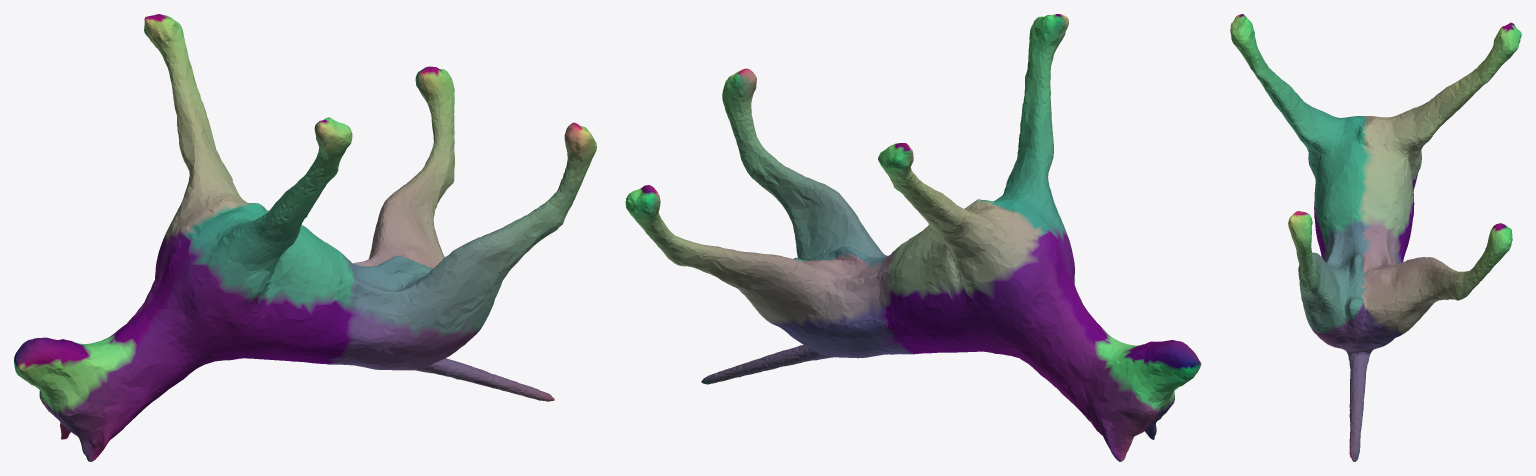
File: dog2-8.off.obj
3 renders of one model, left to right at view 1: azimuth 30°, elevation 25°; view 2: azimuth 150°, elevation 25°; view 3: azimuth 270°, elevation 25°, orthographic. The views are drawn at different scales.
Bounding box in the file's own units: 1.53 × 1.1 × 0.8865.
